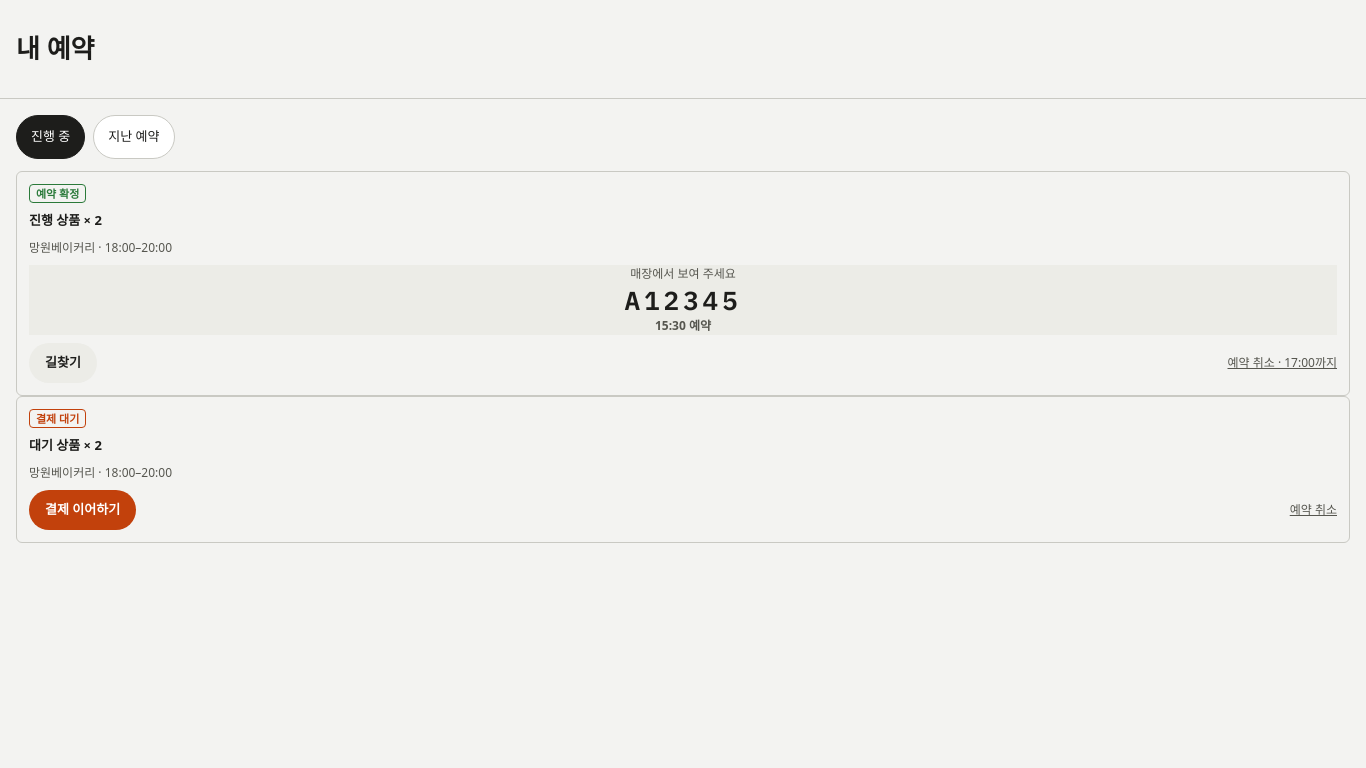
Test: MyReservationsPage (C5·C5b) › 칩 「지난 예약」을 누르면 쿼리 tab=past가 된다
Expected: the text "진행 상품 × 2" is shown, [29,211,102,229]
Click the button "지난 예약": coordinates (134, 137) [93,115,174,159]
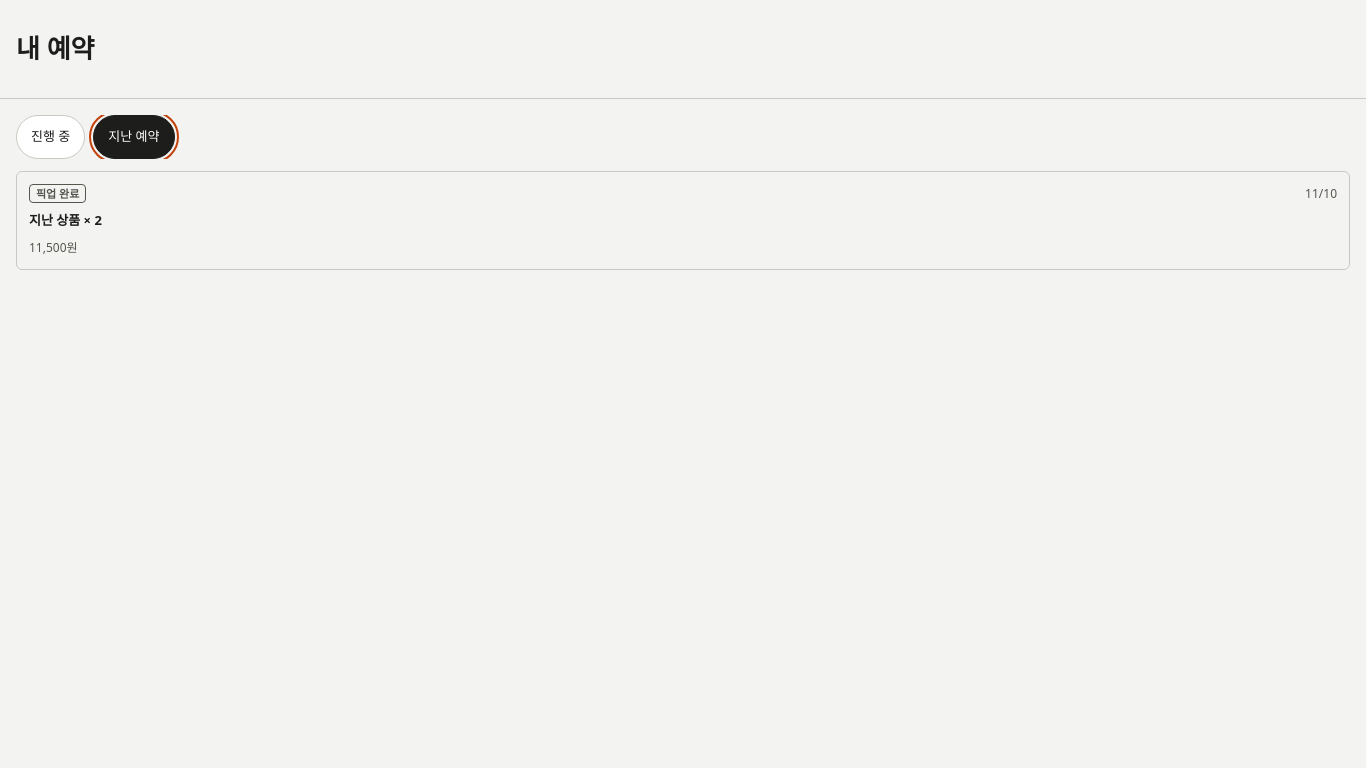
Expected: the text "지난 상품 × 2" is shown, [29,211,102,229]
